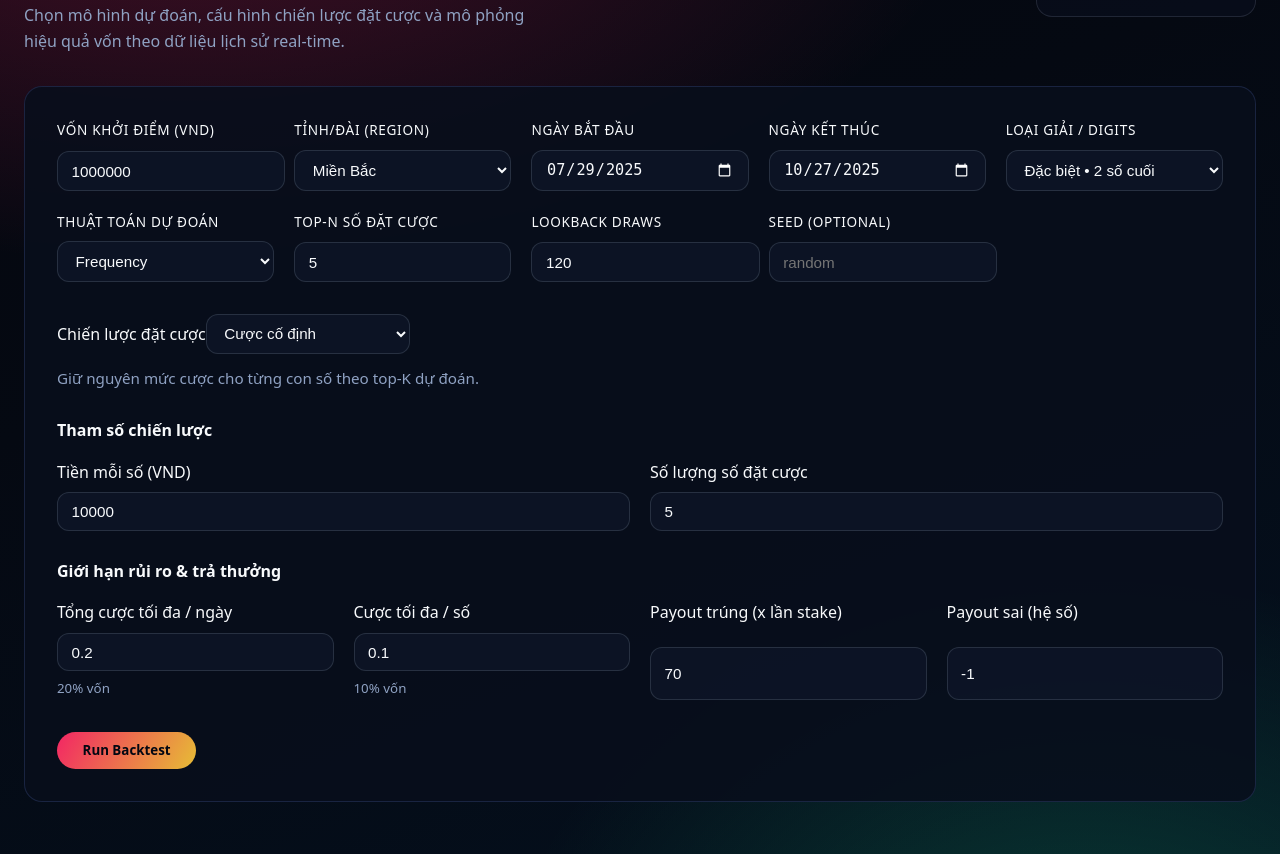
Test: BacktestProPage › loads regions, submits request, and renders results summary
This screenshot has width=1280, height=854.
(page scrolled)
Expected: the dropdown labelled "Tỉnh/Đài (region)" shows "Miền Bắc", [294, 150, 511, 191]
Click the button "Run Backtest" at [127, 750], box [57, 732, 196, 769]
(page scrolled)
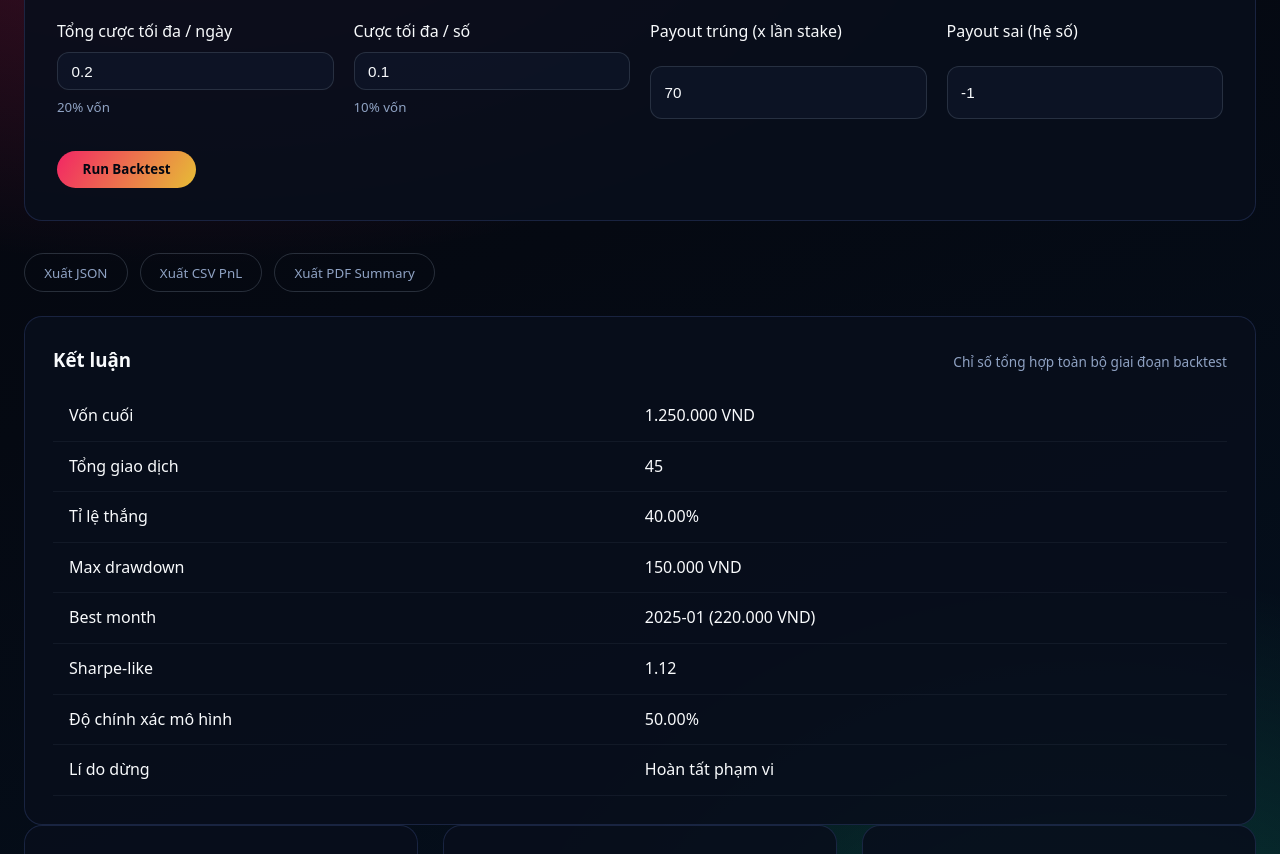
Expected: the heading "Kết luận" is shown, [53, 345, 131, 375]
Expected: the text "1.250.000 VND" is shown, [629, 391, 1227, 441]
